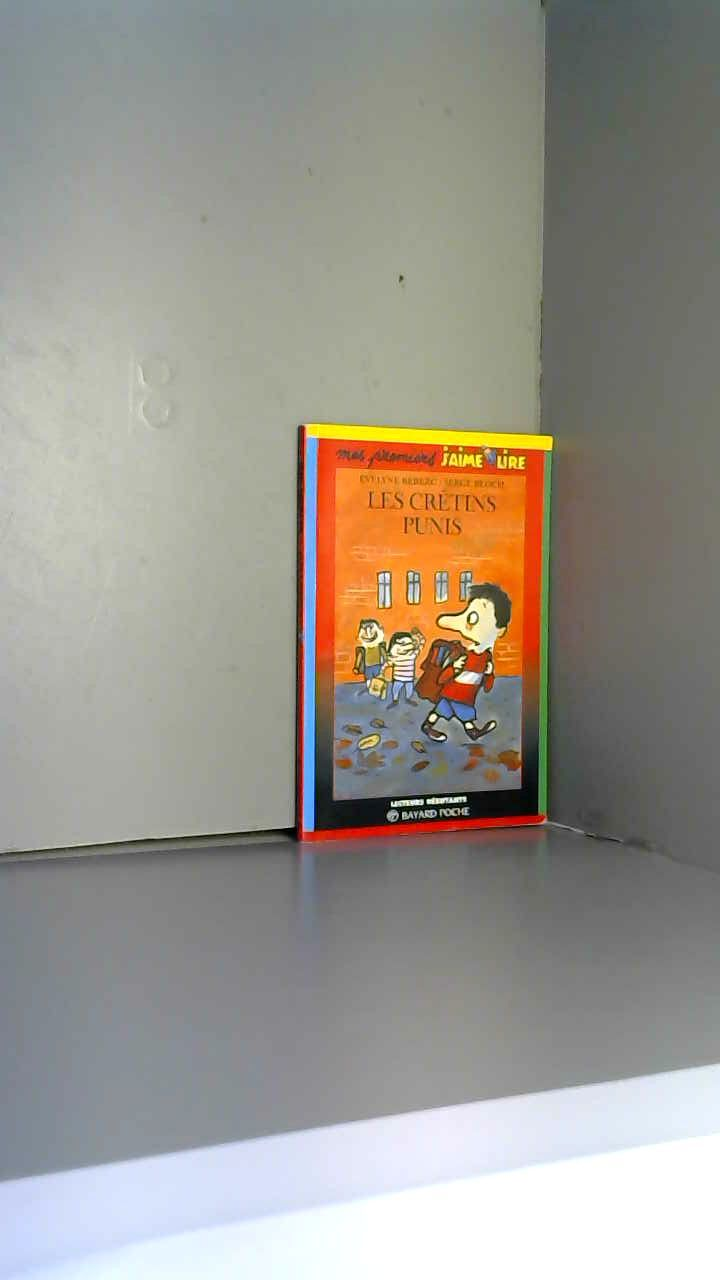book: (282, 410, 566, 858)
